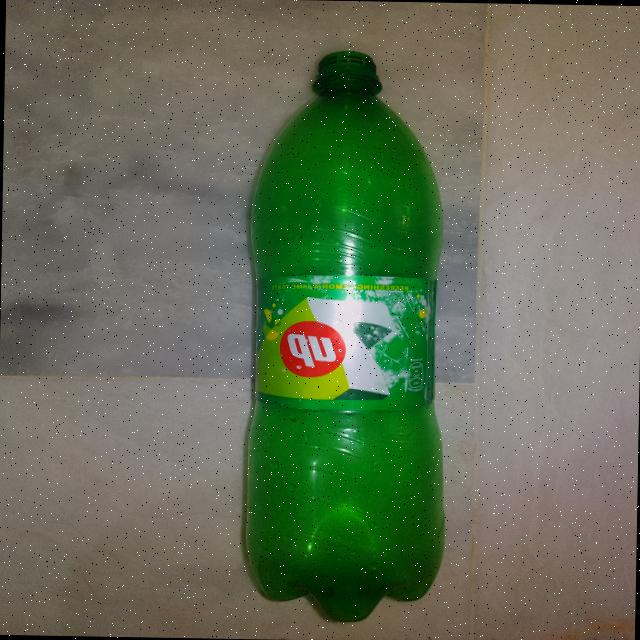bottle: (225, 34, 454, 631)
label: (233, 262, 444, 424)
